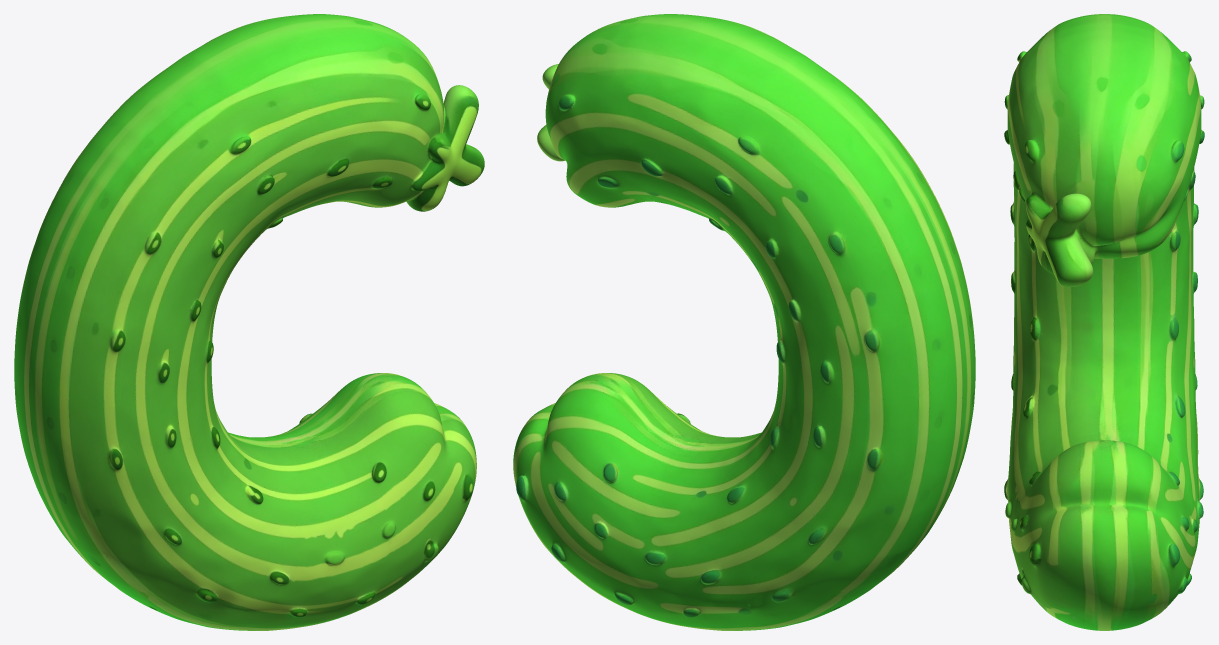
3 renders of one model, left to right at view 1: azimuth 30°, elevation 25°; view 2: azimuth 150°, elevation 25°; view 3: azimuth 270°, elevation 25°, orthographic. The views are drawn at different scales.
Parts seen in each view (by area): view 1: Mesh_0; view 2: Mesh_0; view 3: Mesh_0.
Boxes of the visible parts, x1=… form: Mesh_0: x1=14, y1=14, x2=484, y2=630; Mesh_0: x1=513, y1=14, x2=975, y2=630; Mesh_0: x1=1004, y1=14, x2=1204, y2=630.
Size of the model in its own units: 1.08 by 1.38 by 0.4441.
Materials: 1 (1 with a texture image).
